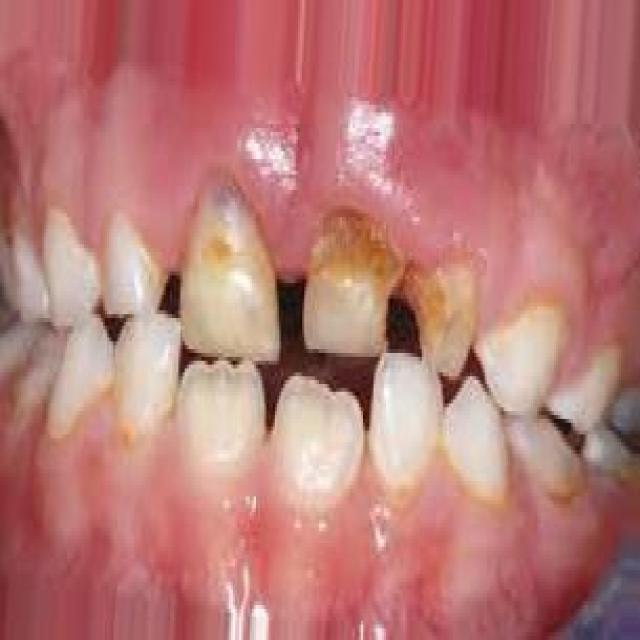caries: (298, 196, 400, 361), (400, 238, 483, 395)
